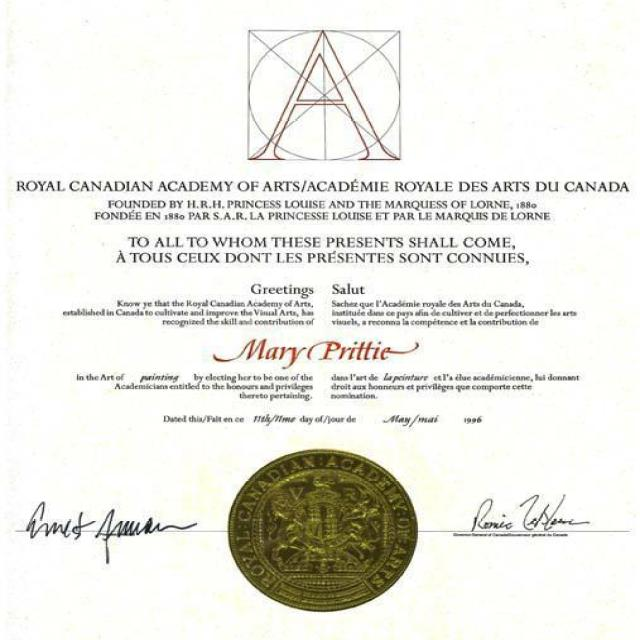signature: (12, 498, 206, 566), (454, 491, 601, 542)
